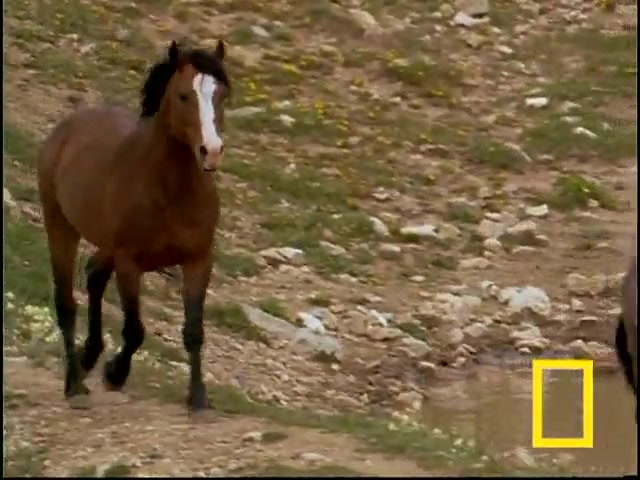horse: (38, 38, 233, 423)
